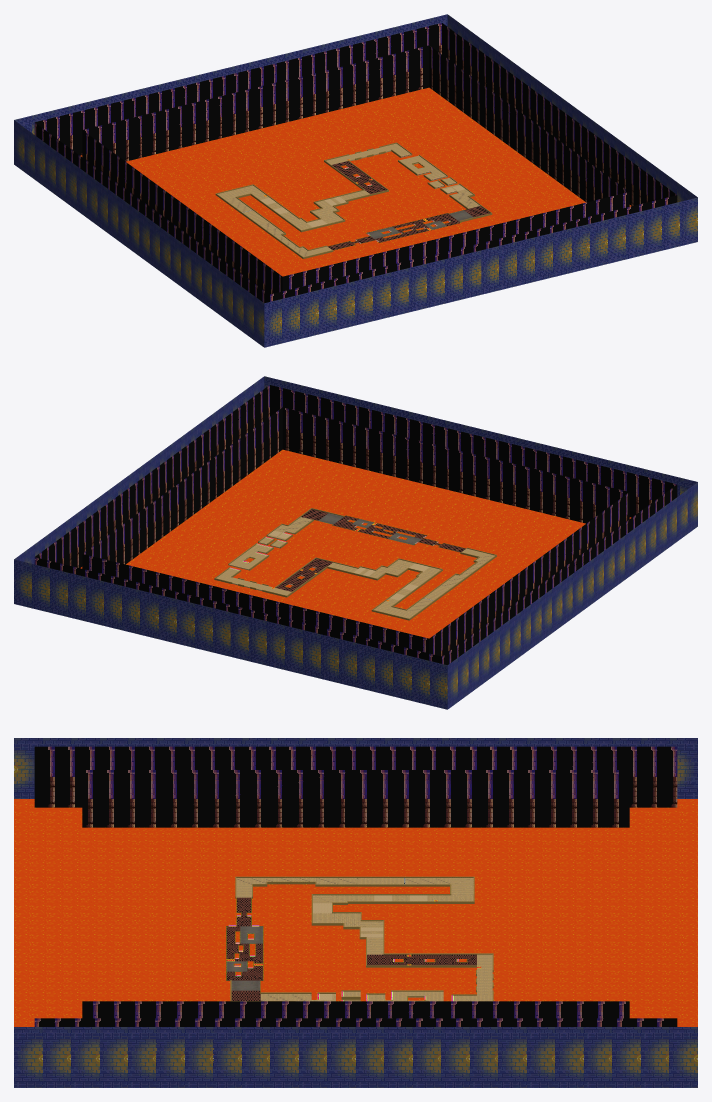
The picture shows the model from 3 angles, top to bottom: view 1: azimuth 30°, elevation 25°; view 2: azimuth 150°, elevation 25°; view 3: azimuth 270°, elevation 25°; orthographic projection. The views are drawn at different scales.
Parts seen in each view (by area): view 1: old_koopa_agb.008, old_koopa_agb.009, old_koopa_agb.005, old_koopa_agb.012, old_koopa_agb.001, old_koopa_agb.011, old_koopa_agb.006, old_koopa_agb.013; view 2: old_koopa_agb.008, old_koopa_agb.009, old_koopa_agb.005, old_koopa_agb.012, old_koopa_agb.001, old_koopa_agb.011, old_koopa_agb.006; view 3: old_koopa_agb.009, old_koopa_agb.008, old_koopa_agb.005, old_koopa_agb.012, old_koopa_agb.001, old_koopa_agb.011, old_koopa_agb.006, old_koopa_agb.007, old_koopa_agb.004.
Boxes of the visible parts, x1,y1,x2,y2 form: old_koopa_agb.008: [34, 23, 677, 302]; old_koopa_agb.009: [80, 87, 631, 276]; old_koopa_agb.005: [14, 14, 697, 347]; old_koopa_agb.012: [217, 143, 467, 254]; old_koopa_agb.001: [215, 142, 492, 258]; old_koopa_agb.011: [328, 161, 490, 250]; old_koopa_agb.006: [226, 191, 480, 256]; old_koopa_agb.013: [327, 154, 467, 250]; old_koopa_agb.008: [34, 385, 677, 664]; old_koopa_agb.009: [80, 449, 631, 638]; old_koopa_agb.005: [14, 376, 697, 709]; old_koopa_agb.012: [216, 529, 485, 618]; old_koopa_agb.001: [214, 508, 496, 620]; old_koopa_agb.011: [276, 509, 465, 591]; old_koopa_agb.006: [277, 517, 494, 612]; old_koopa_agb.009: [14, 799, 697, 1026]; old_koopa_agb.008: [34, 746, 677, 1026]; old_koopa_agb.005: [14, 738, 697, 1087]; old_koopa_agb.012: [236, 878, 492, 1001]; old_koopa_agb.001: [230, 876, 493, 1001]; old_koopa_agb.011: [226, 897, 476, 1000]; old_koopa_agb.006: [236, 878, 450, 1001]; old_koopa_agb.007: [226, 926, 262, 990]; old_koopa_agb.004: [313, 895, 427, 1001].
Bounding box in the file's own units: 1.3e+07 × 1271376 × 1.3e+07.
Materials: 13 (13 with a texture image).
